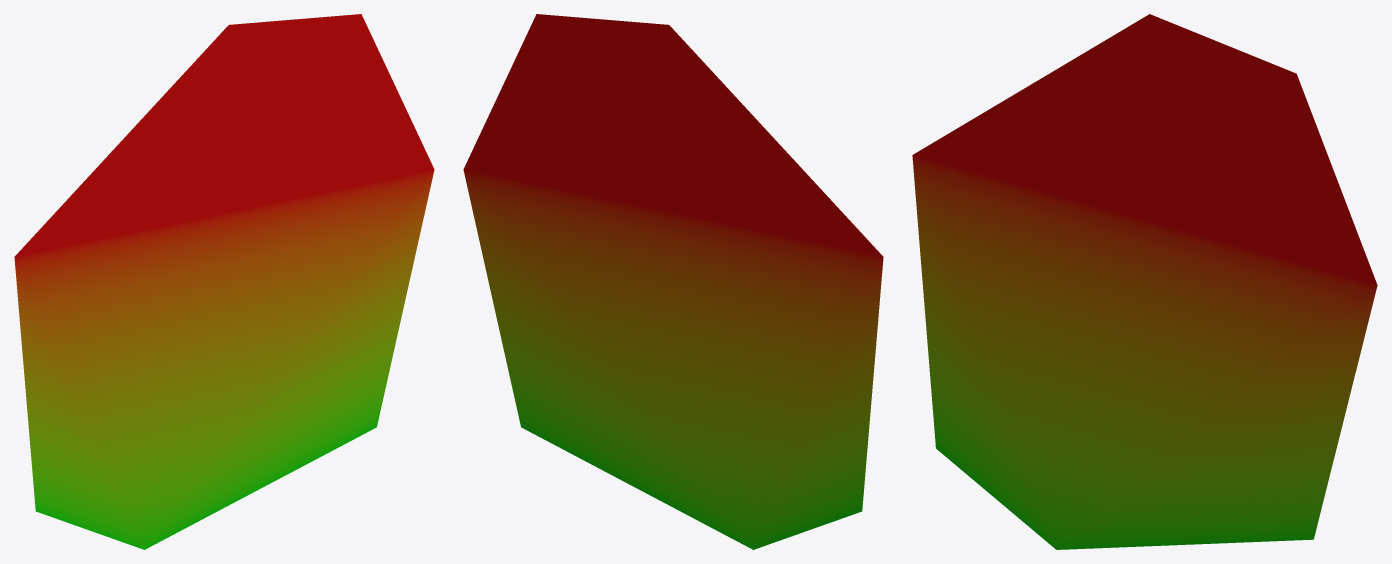
Rendered from Wheat_LOD3_Var2_smdoejyr.fbx.
3 renders of one model, left to right at view 1: azimuth 30°, elevation 25°; view 2: azimuth 150°, elevation 25°; view 3: azimuth 330°, elevation 25°, orthographic. The views are drawn at different scales.
Parts seen in each view (by area): view 1: _wl7i_Var2_LOD3; view 2: _wl7i_Var2_LOD3; view 3: _wl7i_Var2_LOD3.
Part boxes in pixels (box(x1,y1,x2,y2)): _wl7i_Var2_LOD3: box(14, 14, 434, 549); _wl7i_Var2_LOD3: box(463, 14, 883, 549); _wl7i_Var2_LOD3: box(912, 14, 1377, 549).
Bounding box in the file's own units: 56 × 64.27 × 7.43e-06.
